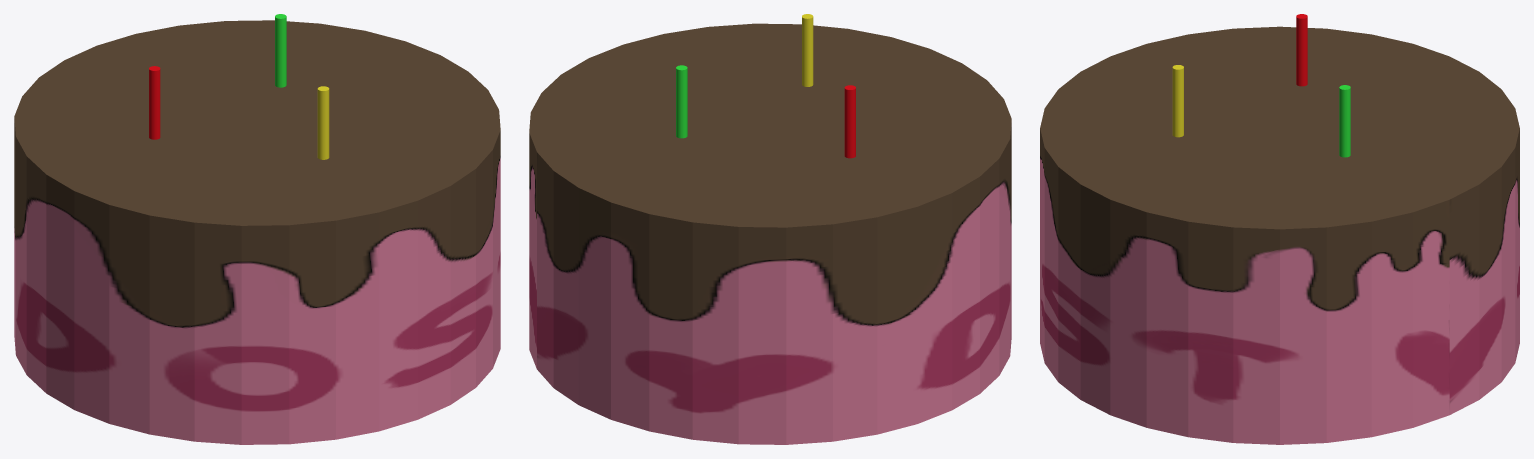
File: BCake Half.fbx
3 renders of one model, left to right at view 1: azimuth 30°, elevation 25°; view 2: azimuth 150°, elevation 25°; view 3: azimuth 270°, elevation 25°, orthographic.
Parts seen in each view (by area): view 1: Cylinder, Cylinder.004, Cylinder.002, Cylinder.001, Cylinder.003; view 2: Cylinder, Cylinder.004, Cylinder.001, Cylinder.003, Cylinder.002; view 3: Cylinder.004, Cylinder, Cylinder.001, Cylinder.003, Cylinder.002.
Part boxes in pixels (x1=…): Cylinder: x1=14, y1=34, x2=379, y2=444; Cylinder.004: x1=136, y1=20, x2=500, y2=431; Cylinder.002: x1=317, y1=86, x2=329, y2=159; Cylinder.001: x1=149, y1=66, x2=160, y2=139; Cylinder.003: x1=275, y1=14, x2=286, y2=87; Cylinder: x1=649, y1=37, x2=1011, y2=444; Cylinder.004: x1=529, y1=23, x2=890, y2=431; Cylinder.001: x1=844, y1=85, x2=855, y2=158; Cylinder.003: x1=676, y1=65, x2=687, y2=138; Cylinder.002: x1=802, y1=14, x2=813, y2=86; Cylinder.004: x1=1040, y1=128, x2=1519, y2=444; Cylinder: x1=1040, y1=26, x2=1519, y2=127; Cylinder.001: x1=1296, y1=14, x2=1307, y2=86; Cylinder.003: x1=1339, y1=85, x2=1350, y2=157; Cylinder.002: x1=1172, y1=65, x2=1183, y2=137.
Bounding box in the file's own units: 200 × 130 × 200.
